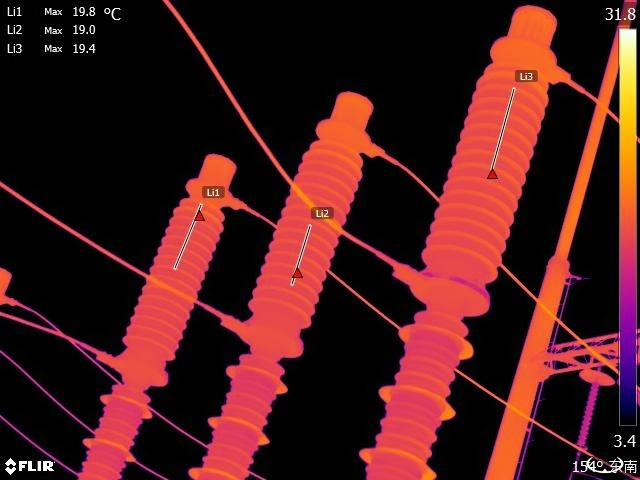circuit breaker: (355, 7, 575, 480), (201, 79, 383, 480), (70, 116, 238, 480)
insulator: (573, 379, 604, 454)
